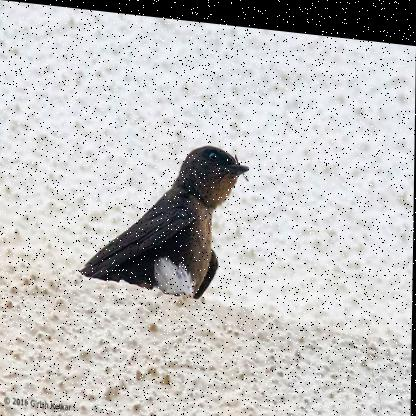Burung: (79, 130, 248, 296)
